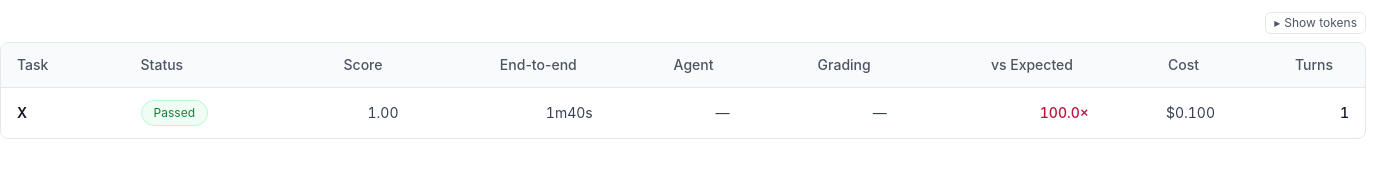
Test: TaskGrid — Tokens↔USD toggle › shows token counts once revealed, no 'estimated' badge
Click the button "▸ Show tokens" at (1316, 23), box [1265, 12, 1366, 34]
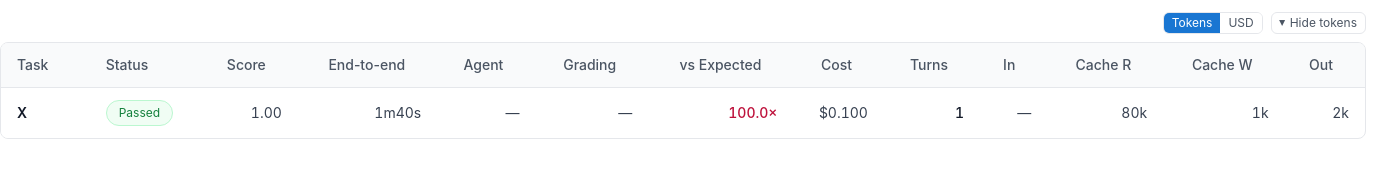
Expected: the text "2k" is shown, [1285, 88, 1365, 138]
